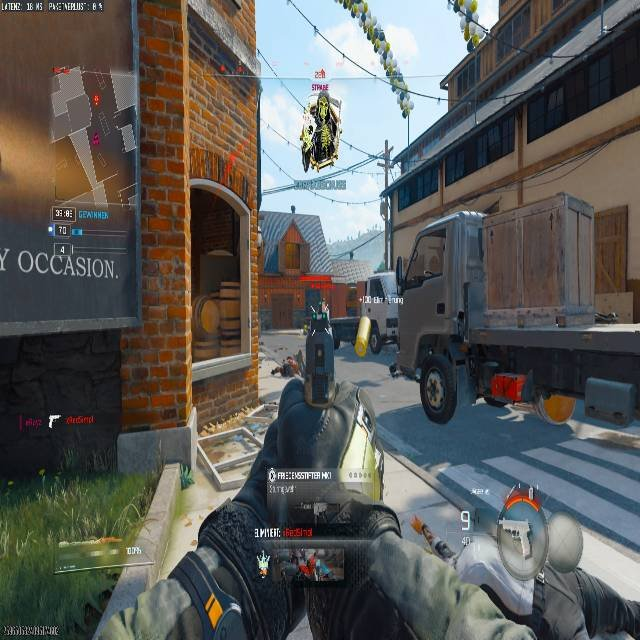head: (495, 496, 559, 574)
player: (409, 494, 638, 639), (300, 300, 335, 398)
